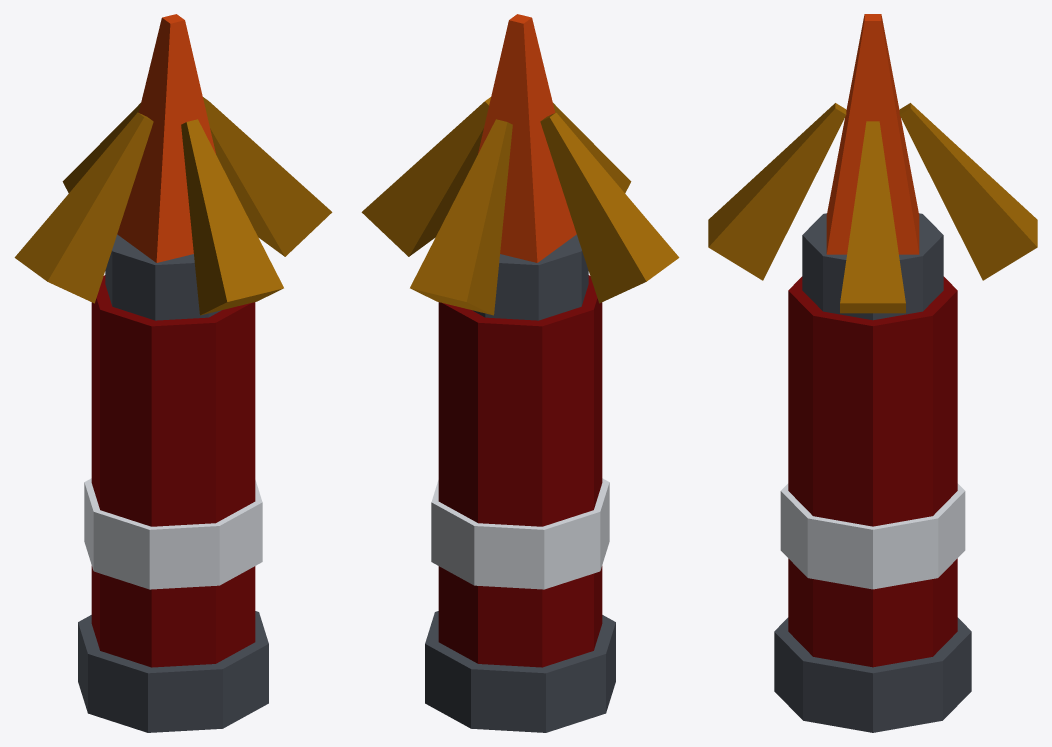
The model's file is LlamadoEmergencia_low.fbx.
3 views of the same model, side by side, from view 1: azimuth 30°, elevation 25°; view 2: azimuth 150°, elevation 25°; view 3: azimuth 270°, elevation 25° (orthographic).
Parts seen in each view (by area): view 1: LlamadoEmergencia_low; view 2: LlamadoEmergencia_low; view 3: LlamadoEmergencia_low.
Part boxes in pixels (x1=…): LlamadoEmergencia_low: x1=14, y1=14, x2=332, y2=732; LlamadoEmergencia_low: x1=361, y1=14, x2=679, y2=732; LlamadoEmergencia_low: x1=708, y1=14, x2=1037, y2=732.
Size of the model in its own units: 34.99 by 79 by 34.99.
